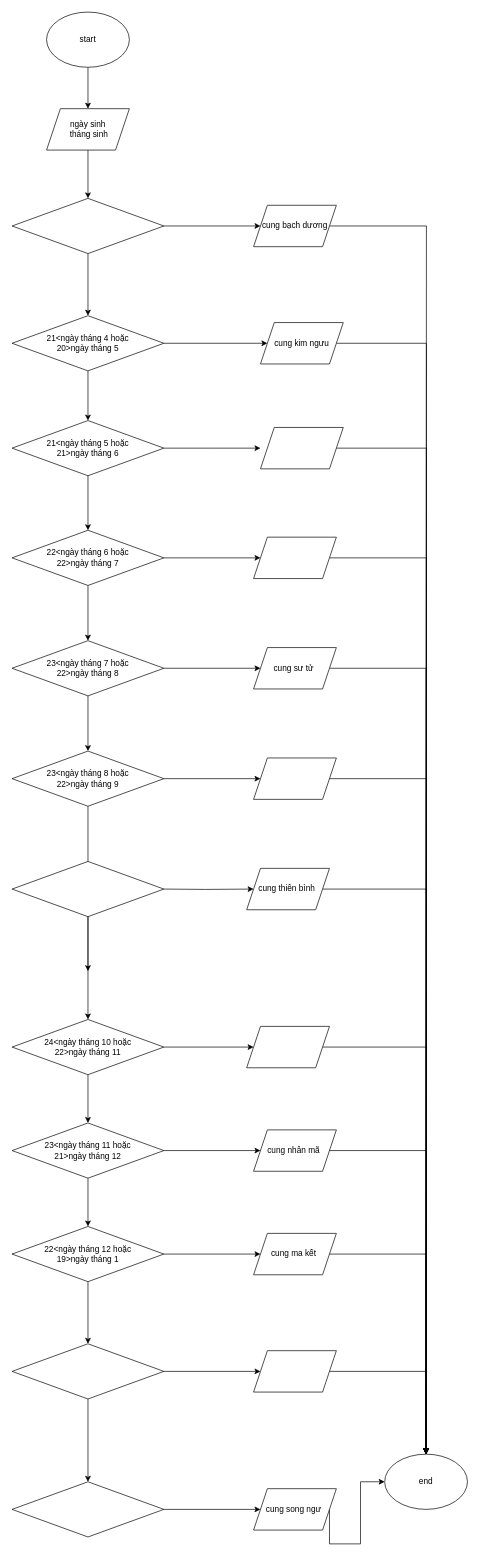
This 480x1561 diagram has some shape labels left out. Here are the shapes that lost their labels. From the top down, the box of each, then its label:
(11, 198, 164, 254): 21<ngày tháng 3 hoặc 20>ngày tháng 4
(260, 427, 343, 469): cung song tử
(253, 536, 336, 579): cung cự giải
(253, 757, 336, 799): cung xử nữ
(11, 861, 164, 917): 23<ngày tháng 9 hoặc 23>ngày tháng 10
(246, 1026, 329, 1068): cung bọ cạp
(11, 1343, 164, 1399): 20<ngày tháng 1 hoặc 18>ngày tháng 2
(253, 1350, 336, 1392): cung bảo bình
(11, 1481, 164, 1537): 19<ngày tháng 2 hoặc 20>ngày tháng 3
